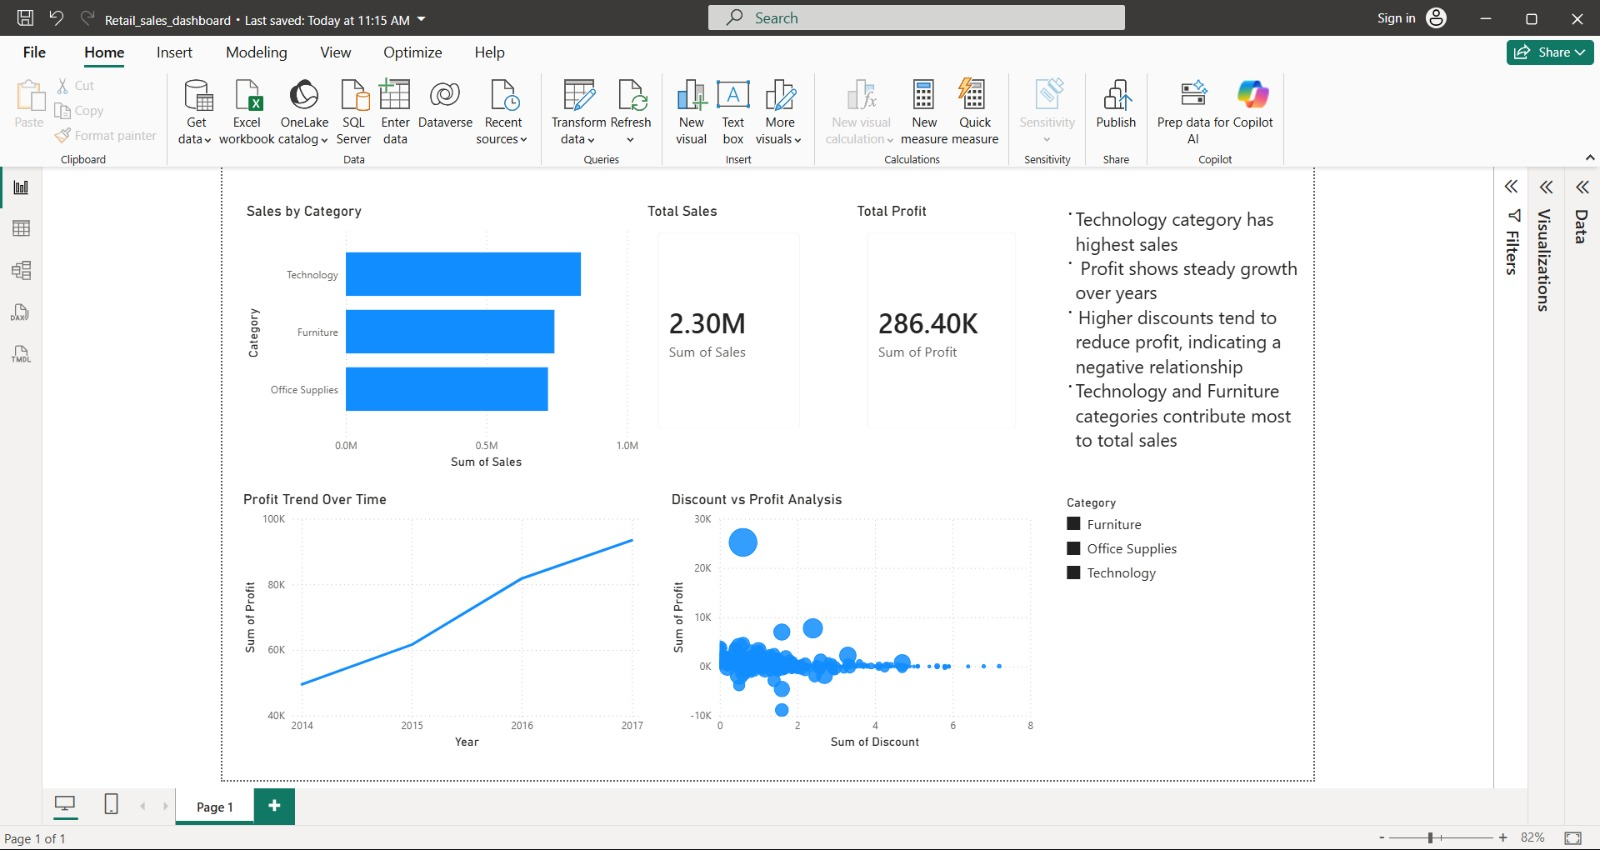

This screenshot's page, from the dashboard's own definition file:
{"tool":"powerbi","page":{"name":"Page 1","canvas":[1280,720],"ordinal":0},"visuals":[{"type":"clusteredBarChart","title":"Sales by Category","fields":{"Category":["sales_data.Category"],"Y":["Sum(sales_data.Sales)"]},"box":[23.2,41.6,470.8,317.9],"z":0},{"type":"lineChart","title":"Profit Trend Over Time","fields":{"Category":["sales_data.Order Date.Variation.Date Hierarchy.Year","sales_data.Order Date.Variation.Date Hierarchy.Quarter","sales_data.Order Date.Variation.Date Hierarchy.Month","sales_data.Order Date.Variation.Date Hierarchy.Day"],"Y":["Sum(sales_data.Profit)"]},"box":[19.6,380.3,479.4,308.2],"z":1000},{"type":"scatterChart","title":"Discount vs Profit Analysis","fields":{"X":["Sum(sales_data.Discount)"],"Y":["Sum(sales_data.Profit)"],"Size":["Sum(sales_data.Sales)"],"Category":["sales_data.Product_Name"]},"box":[522.1,380.3,435.3,308.2],"z":2000},{"type":"cardVisual","title":"Total Sales","fields":{"Data":["Sum(sales_data.Sales)"]},"box":[494,41.6,201.8,283.7],"z":3000},{"type":"slicer","fields":{"Values":["sales_data.Category"]},"box":[978.3,380.3,254.3,316.7],"z":4000},{"type":"textbox","box":[978.3,41.6,293.5,317.9],"z":5000},{"type":"cardVisual","title":"Total Profit","fields":{"Data":["Sum(sales_data.Profit)"]},"box":[739.8,41.6,209.1,283.7],"z":5001}]}

Visuals, with their boxes on the page's 1280x720 design canvas (x1, y1, x2, y2). These are canvas units, not pixel positions in the 1600x850 screenshot, which may show the page scaled, cropped or inside an application window:
"Sales by Category" clusteredBarChart: l=23, t=42, r=494, b=360
"Profit Trend Over Time" lineChart: l=20, t=380, r=499, b=688
"Discount vs Profit Analysis" scatterChart: l=522, t=380, r=957, b=688
"Total Sales" cardVisual: l=494, t=42, r=696, b=325
slicer - sales_data.Category: l=978, t=380, r=1233, b=697
textbox: l=978, t=42, r=1272, b=360
"Total Profit" cardVisual: l=740, t=42, r=949, b=325
